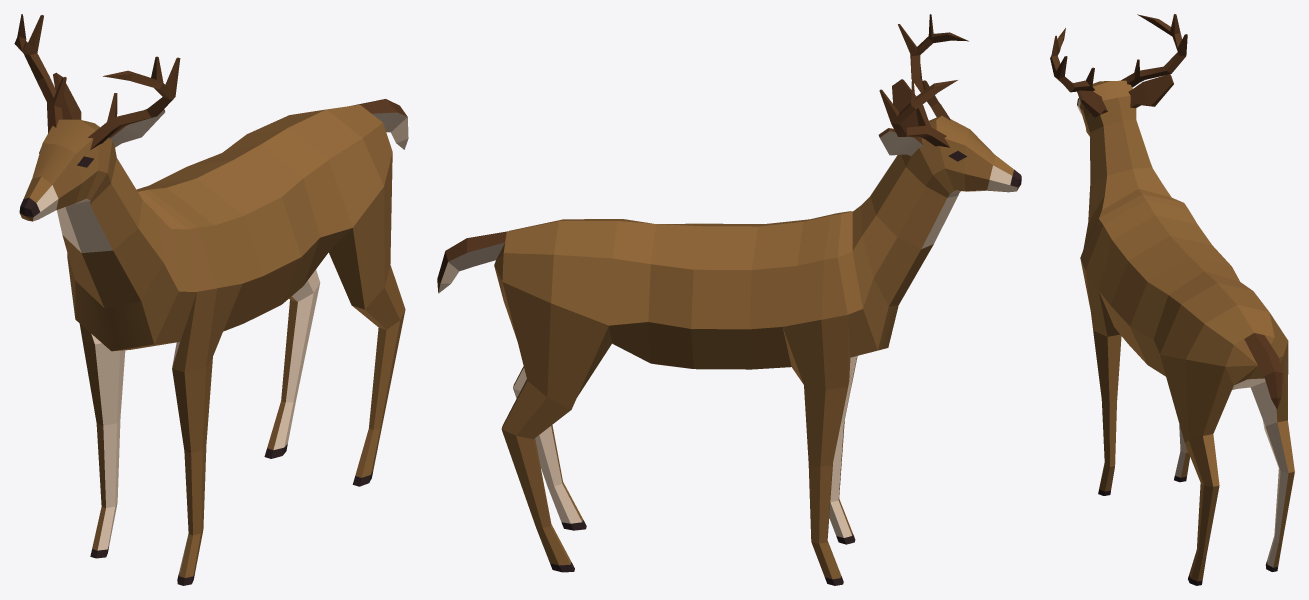
File: deer.glb
3 renders of one model, left to right at view 1: azimuth 30°, elevation 25°; view 2: azimuth 150°, elevation 25°; view 3: azimuth 270°, elevation 25°, orthographic. The views are drawn at different scales.
Visible parts, largest first — view 1: Geo_Deer; view 2: Geo_Deer; view 3: Geo_Deer.
Boxes of the visible parts, left/top/right/bottom form: Geo_Deer: left=14, top=14, right=408, bottom=585; Geo_Deer: left=437, top=14, right=1021, bottom=585; Geo_Deer: left=1050, top=14, right=1294, bottom=585.
Size of the model in its own units: 2.47 by 2.62 by 1.34.
Materials: 1 (1 with a texture image).
